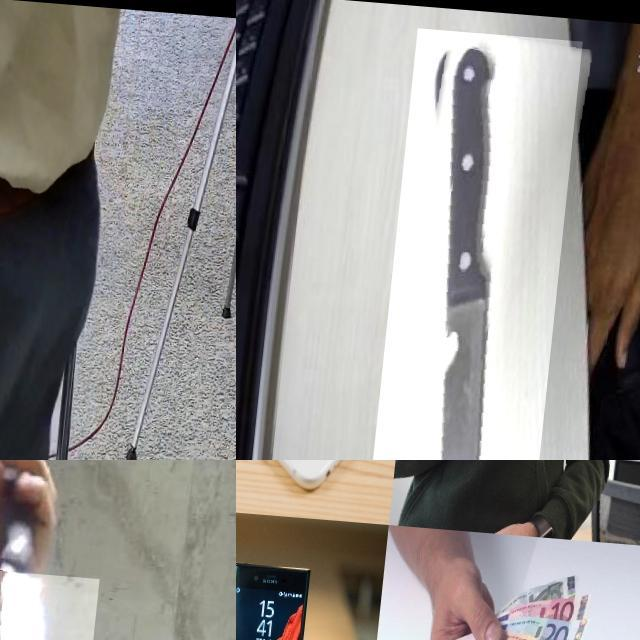-: (367, 23, 583, 460), (0, 565, 105, 640)
gun-knife-thesis - v11 Yolov5 augmented: (0, 88, 45, 217)
